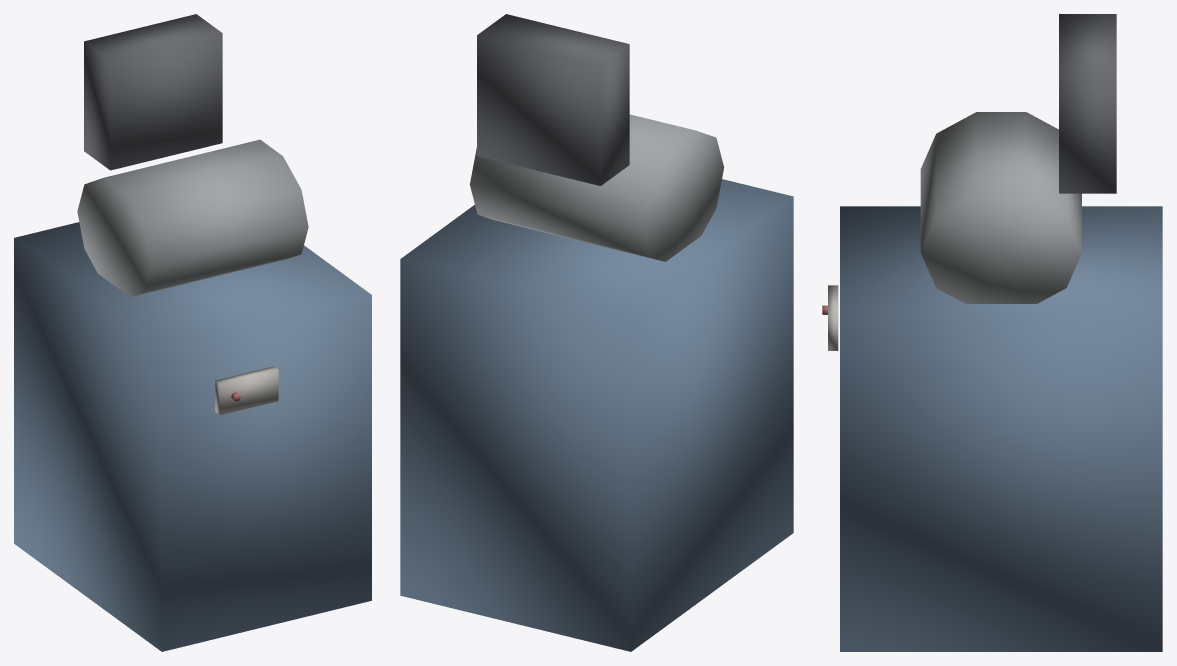
Rendered from wheel_balancer__deep.glb.
The picture shows the model from 3 angles, left to right: view 1: azimuth 30°, elevation 25°; view 2: azimuth 150°, elevation 25°; view 3: azimuth 270°, elevation 25°; orthographic projection. The views are drawn at different scales.
Parts seen in each view (by area): view 1: world; view 2: world; view 3: world.
Boxes of the visible parts, x1,y1,x2,y2 form: world: [14, 14, 371, 651]; world: [400, 14, 793, 651]; world: [822, 14, 1162, 651].
Size of the model in its own units: 0.56 by 1.29 by 0.721.
